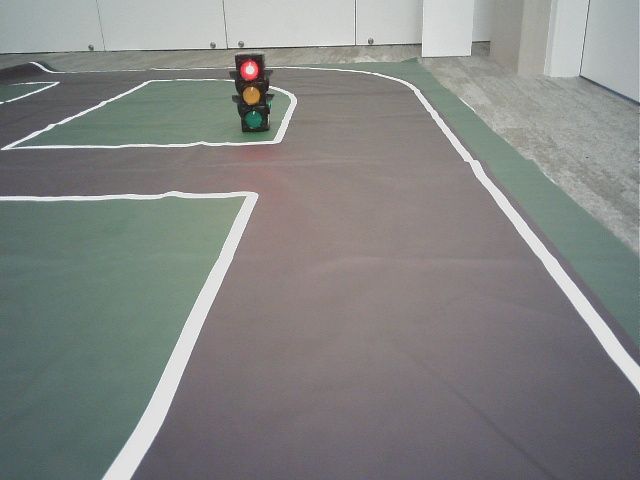red: (237, 57, 266, 127)
